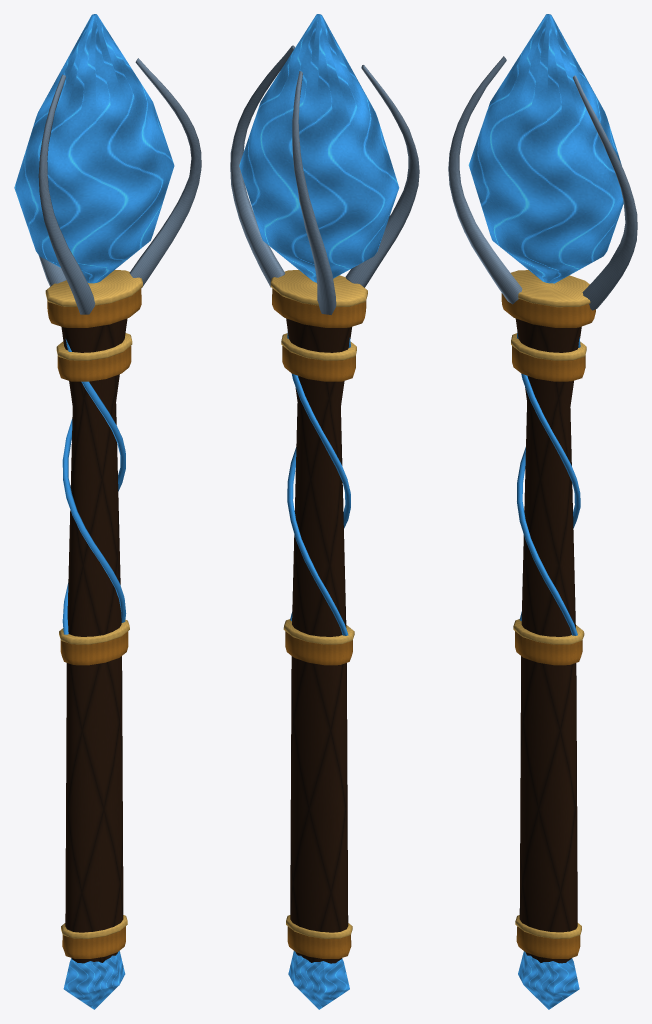
File: water_rod.glb
The picture shows the model from 3 angles, left to right: view 1: azimuth 30°, elevation 25°; view 2: azimuth 150°, elevation 25°; view 3: azimuth 330°, elevation 25°; orthographic projection.
Visible parts, largest first — view 1: Leather wrapped grip, Glass droplet focus, Engraved metal collar (×4), Wave crest prong (×2), Polished collar edge (×4), Spiral elemental shaft inlay (×2), Inset elemental pommel; view 2: Leather wrapped grip, Glass droplet focus, Wave crest prong (×3), Engraved metal collar (×4), Polished collar edge (×4), Spiral elemental shaft inlay (×2), Inset elemental pommel; view 3: Leather wrapped grip, Glass droplet focus, Wave crest prong (×2), Engraved metal collar (×4), Polished collar edge (×4), Spiral elemental shaft inlay (×2), Inset elemental pommel.
Boxes of the visible parts, x1,y1,x2,y2 form: Leather wrapped grip: (61, 318, 127, 963); Glass droplet focus: (14, 14, 174, 283); Engraved metal collar (×4): (47, 288, 141, 958); Wave crest prong (×2): (38, 58, 201, 314); Polished collar edge (×4): (45, 270, 142, 938); Spiral elemental shaft inlay (×2): (62, 339, 126, 634); Inset elemental pommel: (63, 951, 125, 1009); Leather wrapped grip: (286, 318, 351, 963); Glass droplet focus: (239, 14, 399, 282); Wave crest prong (×3): (230, 45, 419, 314); Engraved metal collar (×4): (272, 288, 366, 958); Polished collar edge (×4): (270, 270, 367, 938); Spiral elemental shaft inlay (×2): (287, 331, 350, 635); Inset elemental pommel: (288, 951, 349, 1009); Leather wrapped grip: (515, 318, 581, 963); Glass droplet focus: (468, 14, 623, 283); Wave crest prong (×2): (448, 56, 637, 310); Engraved metal collar (×4): (501, 293, 595, 958); Polished collar edge (×4): (511, 270, 590, 938); Spiral elemental shaft inlay (×2): (517, 332, 580, 635); Inset elemental pommel: (518, 951, 579, 1009).
Bounding box in the file's own units: 64.44 × 350 × 40.62.
6 materials, 6 textured.
